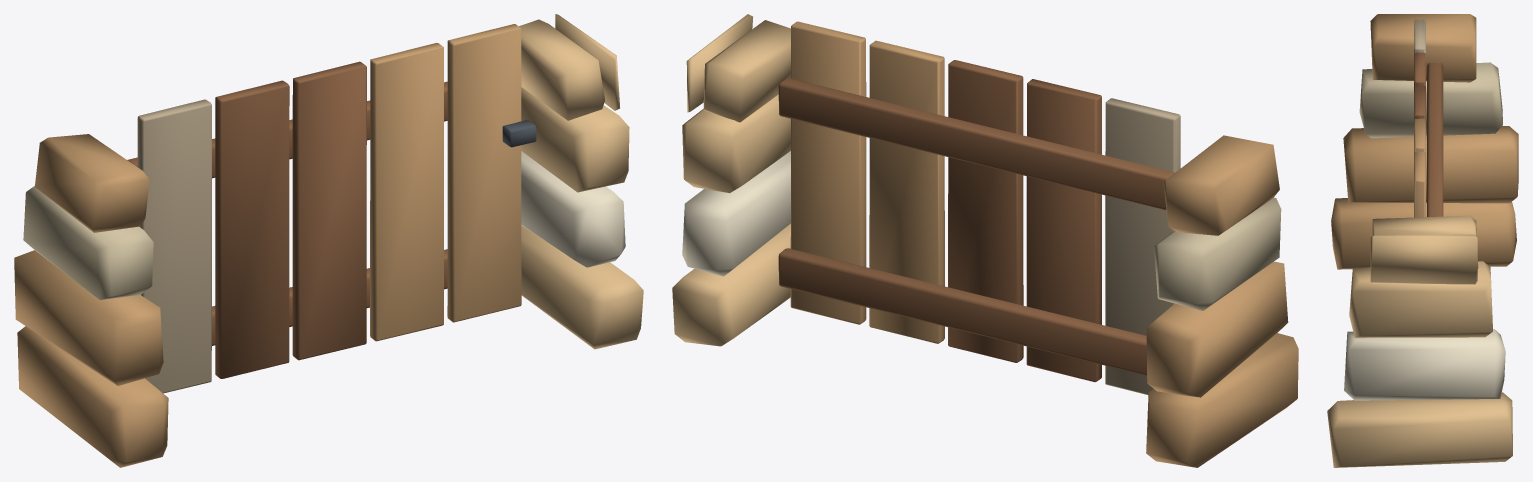
Rendered from fence-stone-gate.glb.
The picture shows the model from 3 angles, left to right: view 1: azimuth 30°, elevation 25°; view 2: azimuth 150°, elevation 25°; view 3: azimuth 270°, elevation 25°; orthographic projection. The views are drawn at different scales.
Visible parts, largest first — view 1: gate, wall; view 2: gate, wall; view 3: wall, gate.
Boxes of the visible parts, x1,y1,x2,y2 form: gate: (127,24,536,393); wall: (14,14,643,467); gate: (778,21,1180,394); wall: (672,14,1298,467); wall: (1327,14,1518,467); gate: (1414,19,1443,217).
Size of the model in its own units: 0.9982 by 0.5426 by 0.3552.
